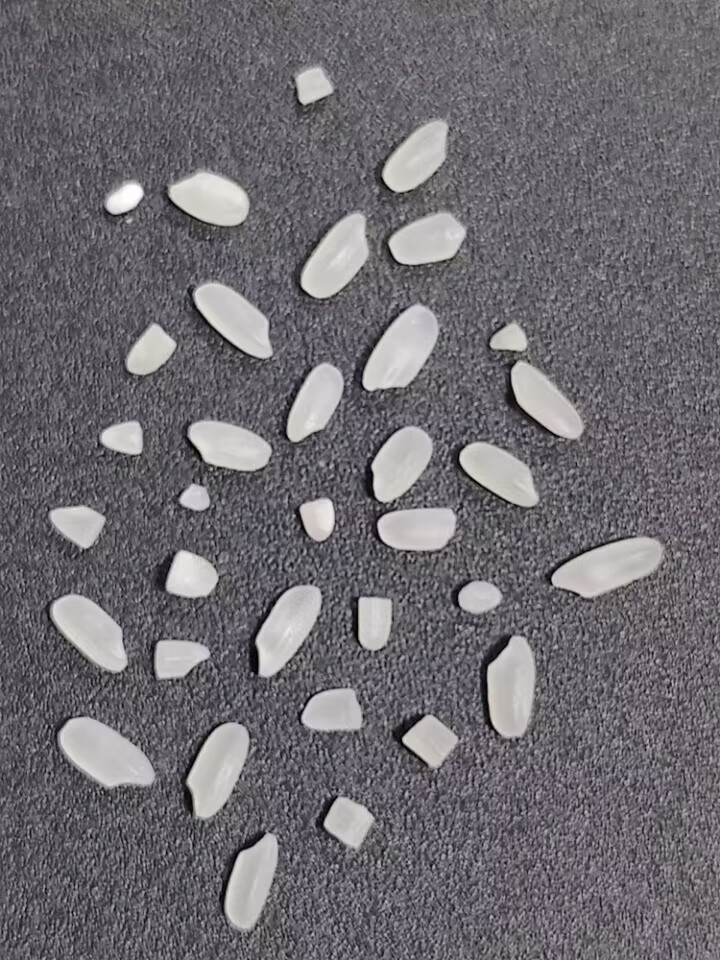broken: (389, 210, 466, 267), (155, 546, 221, 604), (376, 507, 459, 552), (146, 635, 221, 684), (401, 712, 459, 772), (350, 590, 397, 656), (124, 322, 178, 379), (322, 792, 375, 850), (301, 685, 364, 732), (47, 505, 107, 551), (447, 577, 506, 620), (296, 491, 342, 545), (97, 418, 146, 457), (99, 180, 149, 218), (293, 65, 335, 107), (177, 479, 215, 514), (487, 322, 532, 351)
rice: (550, 534, 667, 600), (58, 716, 155, 790), (362, 301, 440, 391), (183, 719, 251, 821), (252, 581, 322, 680), (48, 591, 130, 675), (452, 438, 546, 510), (481, 630, 538, 746), (298, 211, 371, 301), (221, 827, 281, 934), (193, 281, 274, 360), (509, 359, 584, 444), (379, 117, 452, 195), (165, 168, 251, 228), (369, 423, 433, 503), (286, 362, 346, 442), (188, 418, 272, 473)
